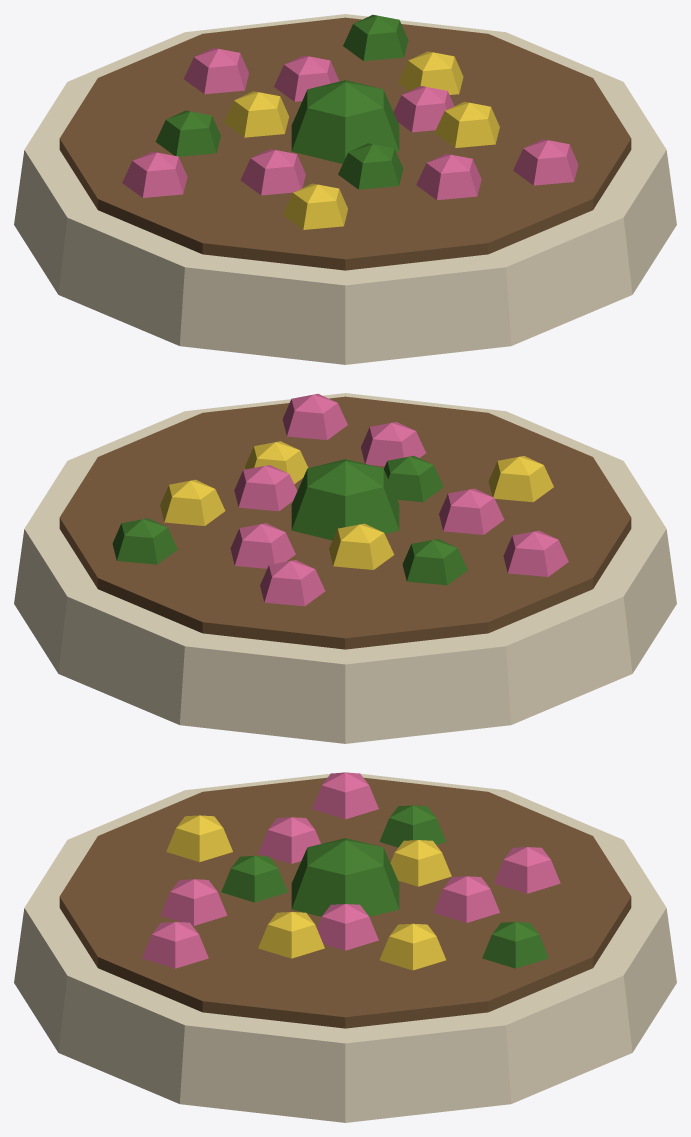
File: Flowerbed_Round.fbx
The picture shows the model from 3 angles, top to bottom: view 1: azimuth 30°, elevation 25°; view 2: azimuth 150°, elevation 25°; view 3: azimuth 270°, elevation 25°; orthographic projection.
Visible parts, largest first — view 1: Flowerbed_Round; view 2: Flowerbed_Round; view 3: Flowerbed_Round.
Boxes of the visible parts, <box> form: Flowerbed_Round: <box>14,14,676,364</box>; Flowerbed_Round: <box>14,393,676,743</box>; Flowerbed_Round: <box>14,772,676,1122</box>.
Size of the model in its own units: 3.2 by 0.76 by 3.2.
